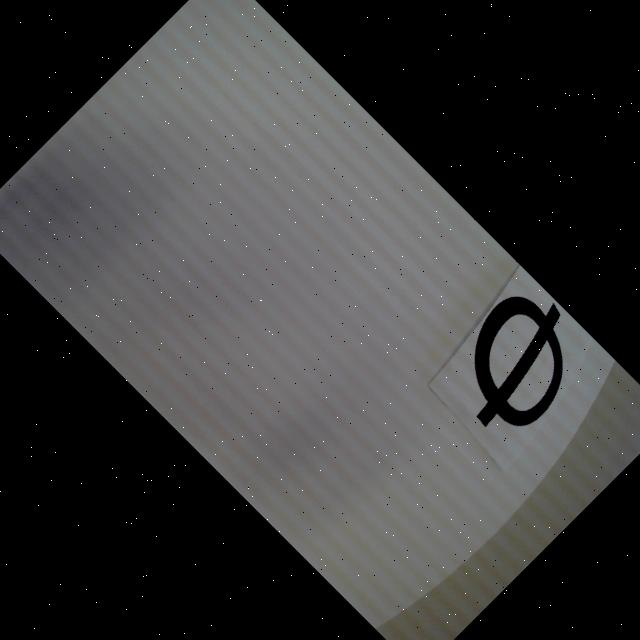PHI: (429, 275, 604, 450)
